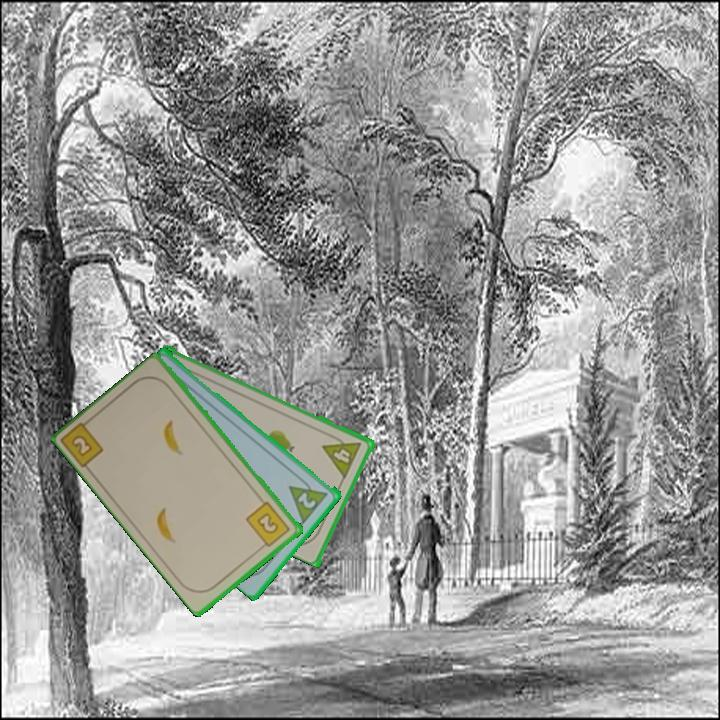2b: (59, 413, 107, 471), (243, 498, 293, 552)
2p: (294, 488, 319, 512)
4p: (320, 430, 364, 480)
